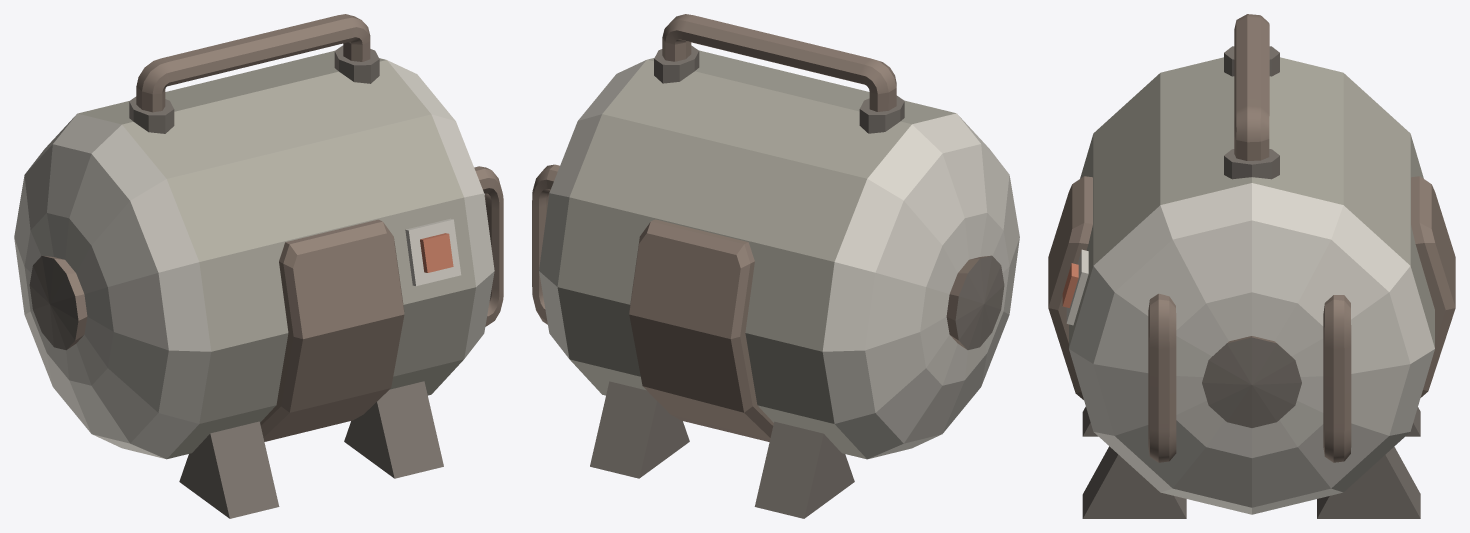
The model's file is bombona.fbx.
The picture shows the model from 3 angles, left to right: view 1: azimuth 30°, elevation 25°; view 2: azimuth 150°, elevation 25°; view 3: azimuth 270°, elevation 25°; orthographic projection. The views are drawn at different scales.
Visible parts, largest first — view 1: bombona, base_bombona, tuberia_bombona_3, tuberia_bombona_2, tuberia_bombona_conexion_2, tuberia_bombona_conexion_1; view 2: bombona, base_bombona, tuberia_bombona_3, tuberia_bombona_4, tuberia_bombona_conexion_1, tuberia_bombona_conexion_2; view 3: bombona, base_bombona, tuberia_bombona_3, tuberia_bombona_2, tuberia_bombona_4, tuberia_bombona_conexion_2, tuberia_bombona_conexion_1.
Part boxes in pixels (box(x1,y1,x2,y2)): bombona: box(14, 50, 494, 459); base_bombona: box(179, 381, 443, 518); tuberia_bombona_3: box(136, 14, 370, 112); tuberia_bombona_2: box(474, 166, 503, 326); tuberia_bombona_conexion_2: box(334, 45, 379, 83); tuberia_bombona_conexion_1: box(129, 96, 174, 133); bombona: box(539, 50, 1019, 459); base_bombona: box(590, 381, 854, 518); tuberia_bombona_3: box(662, 14, 896, 111); tuberia_bombona_4: box(532, 164, 559, 324); tuberia_bombona_conexion_1: box(859, 95, 904, 133); tuberia_bombona_conexion_2: box(654, 45, 699, 83); bombona: box(1048, 57, 1455, 514); base_bombona: box(1082, 406, 1420, 518); tuberia_bombona_3: box(1234, 14, 1269, 160); tuberia_bombona_2: box(1148, 293, 1176, 462); tuberia_bombona_4: box(1323, 295, 1351, 462); tuberia_bombona_conexion_2: box(1224, 149, 1279, 179); tuberia_bombona_conexion_1: box(1224, 46, 1279, 76).
Size of the model in its own units: 91.86 by 84.45 by 77.28.
